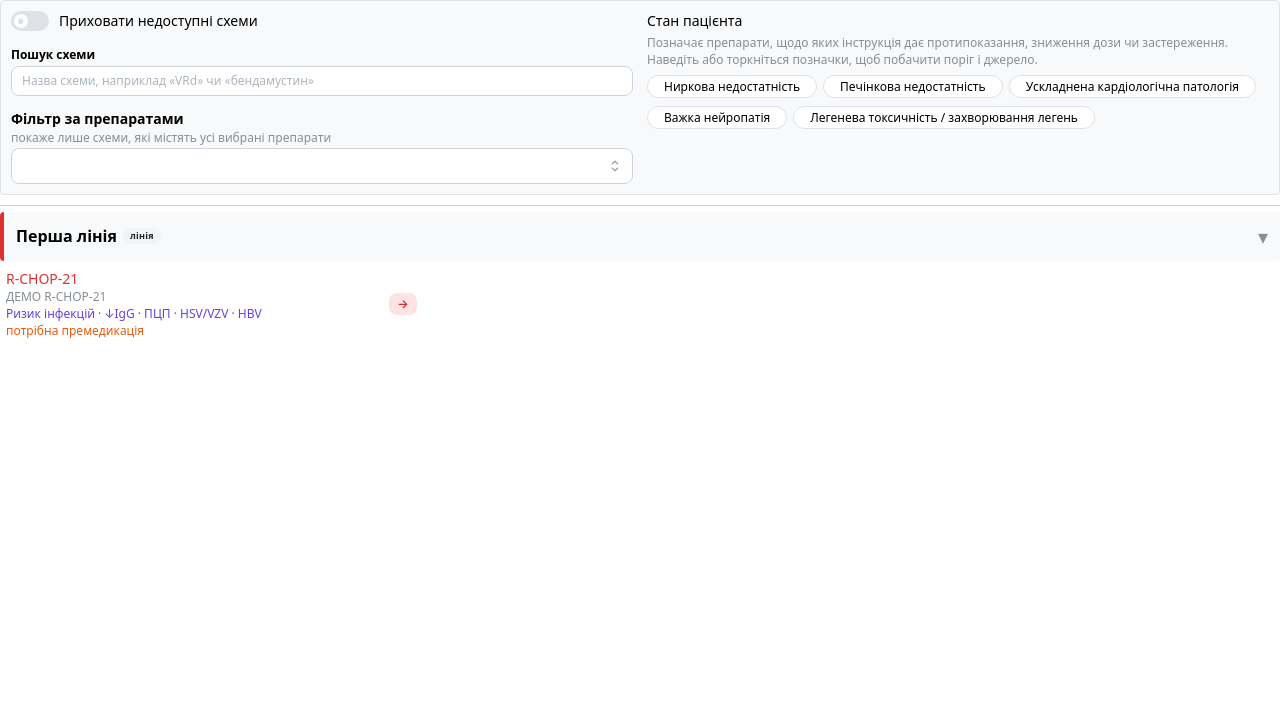
Test: TreatmentTree › counts the regimens of the page and of each line by the patient condition
The image size is (1280, 720).
Click the text "Ниркова недостатність": (732,86) [664,76,800,97]
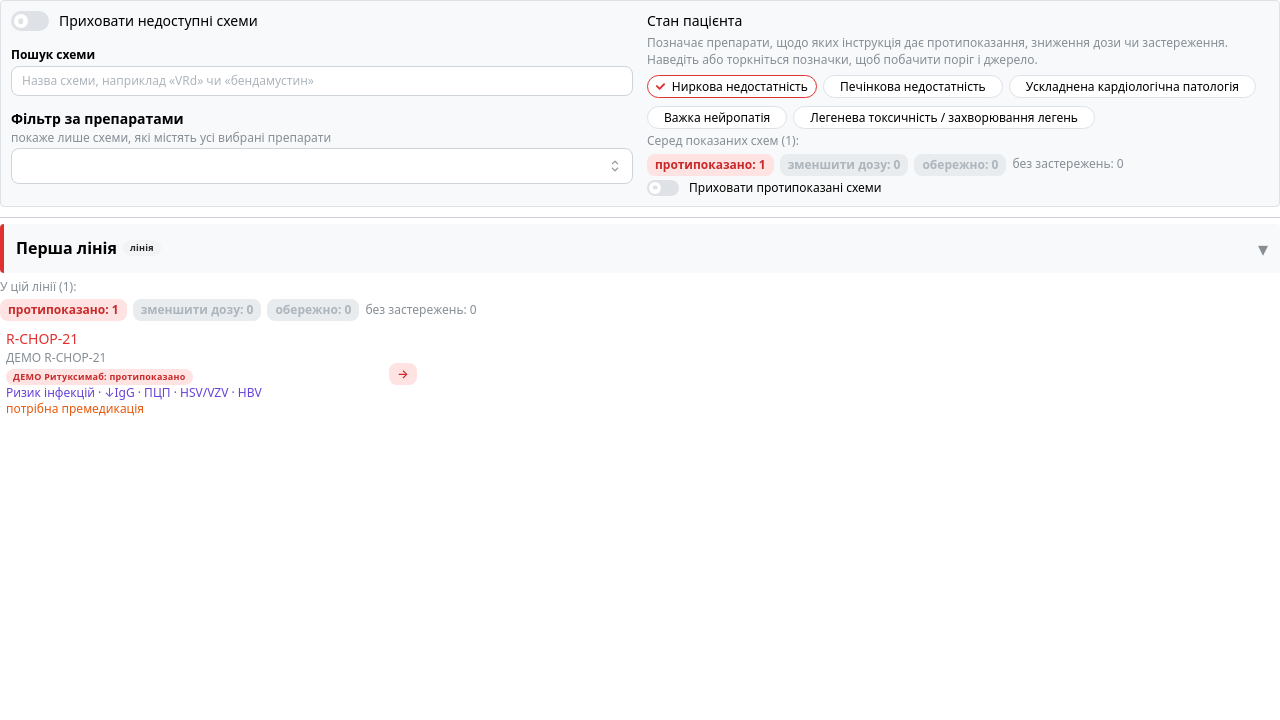
expect the text "Серед показаних схем (1):" is shown: met, box [647,132,799,149]
expect the text "У цій лінії (1):" is shown: met, box [0,278,76,295]
Note: The count opens the list, where the regimen is named.
Click the button "протипоказано: 1" below "Серед показаних схем (1):": (710,165) [647,154,774,176]
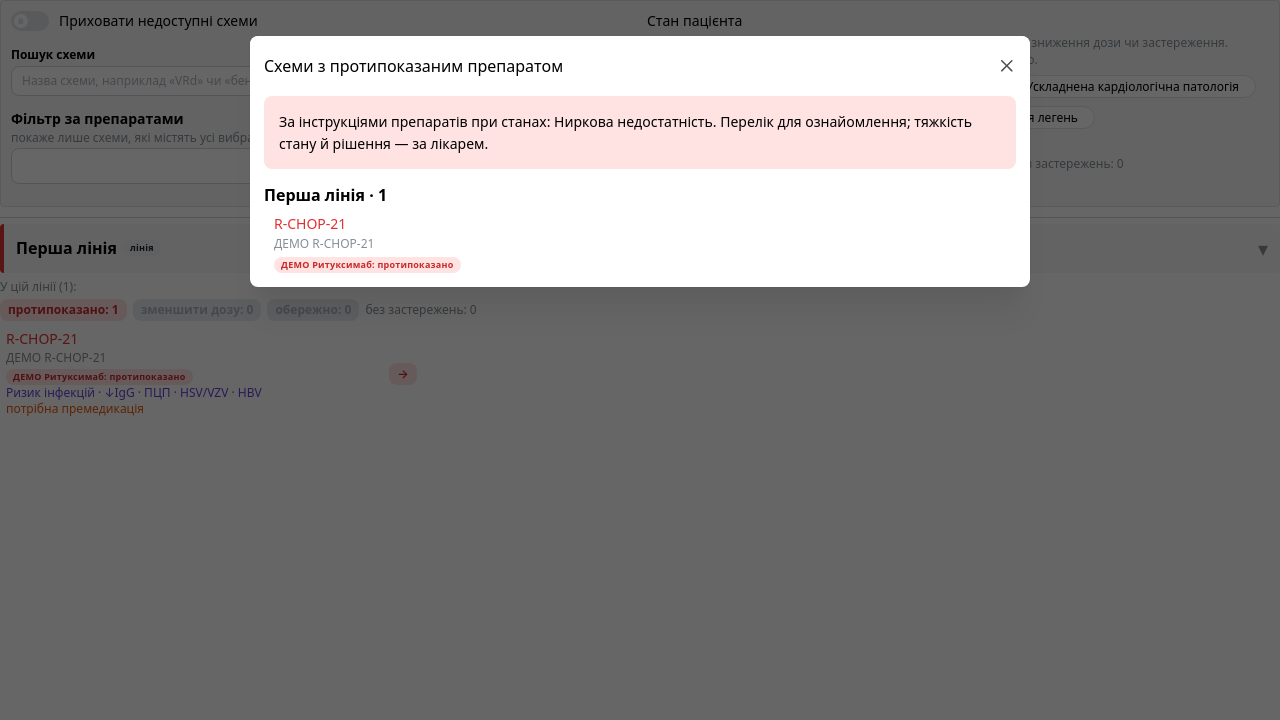
expect the dialog "Схеми з протипоказаним препаратом" shows "R-CHOP-21": met, box [274,214,1016,234]
